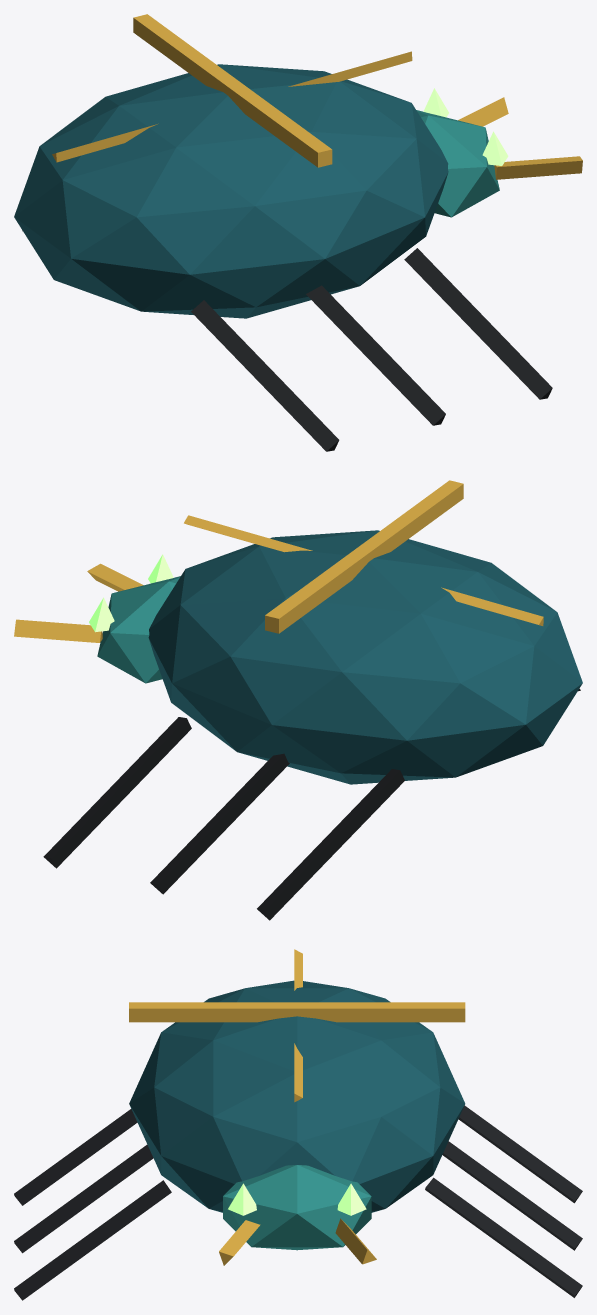
Rendered from skarabe.glb.
The picture shows the model from 3 angles, top to bottom: view 1: azimuth 30°, elevation 25°; view 2: azimuth 150°, elevation 25°; view 3: azimuth 270°, elevation 25°; orthographic projection. The views are drawn at different scales.
Visible parts, largest first — view 1: skarabe; view 2: skarabe; view 3: skarabe.
Boxes of the visible parts, x1,y1,x2,y2 form: skarabe: [14, 14, 582, 451]; skarabe: [14, 480, 582, 920]; skarabe: [14, 949, 582, 1300].
Bounding box in the file's own units: 1.41 × 0.6602 × 1.52.
